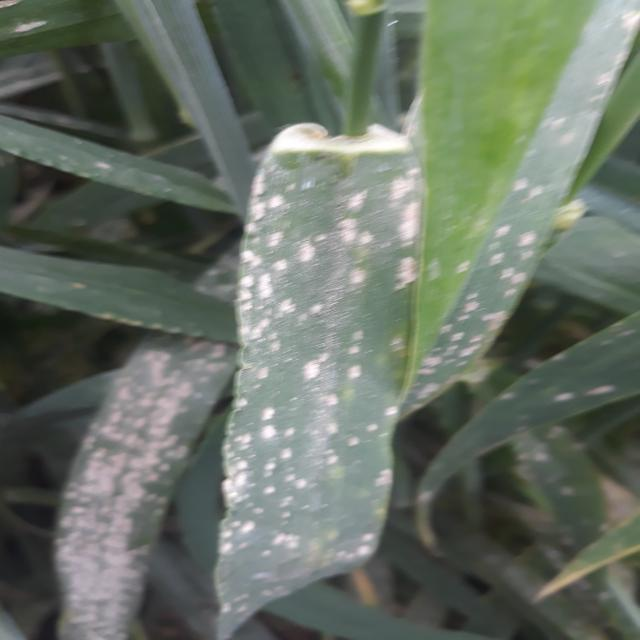powder_mildew: (192, 150, 448, 640), (441, 19, 640, 640), (39, 248, 261, 640), (0, 110, 199, 225), (0, 0, 127, 50)
